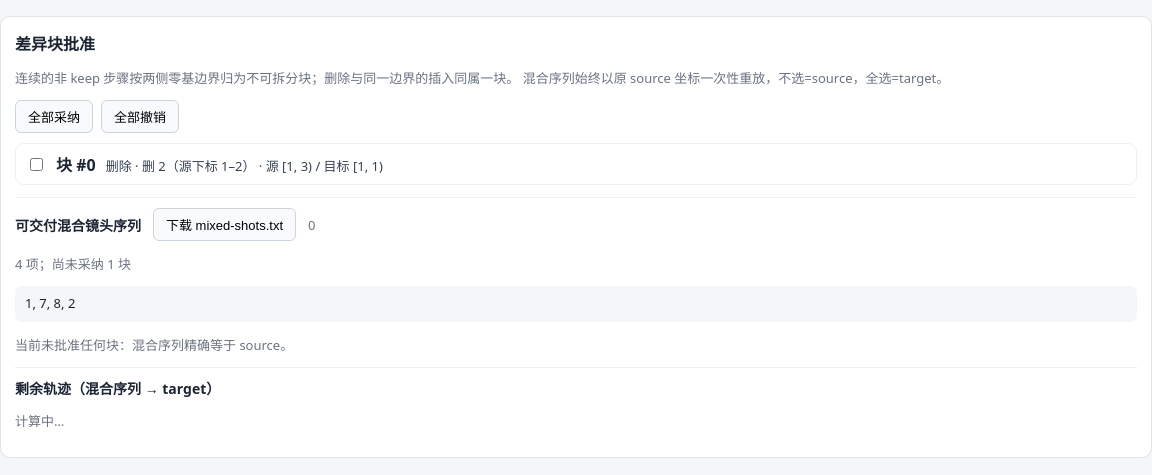
Test: 纯插入/纯删除块的界面 › 纯删除块：勾选后删除项离开混合序列
The image size is (1152, 475).
expect the text with test id "mixed-sequence" reads "1, 7, 8, 2": met, box [25,294,75,312]
What coordinates should you click on to do the following:
click the checkbox with test id "block-checkbox"
I would click on:
 (36, 164)
Its box is [30,158,43,171].
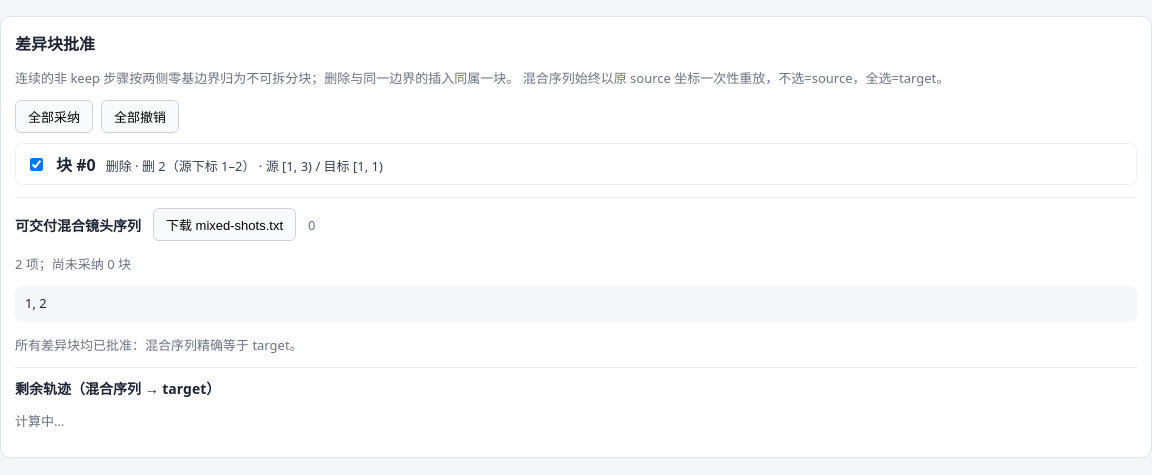
expect the text with test id "mixed-sequence" reads "1, 2": met, box [25,294,47,312]
